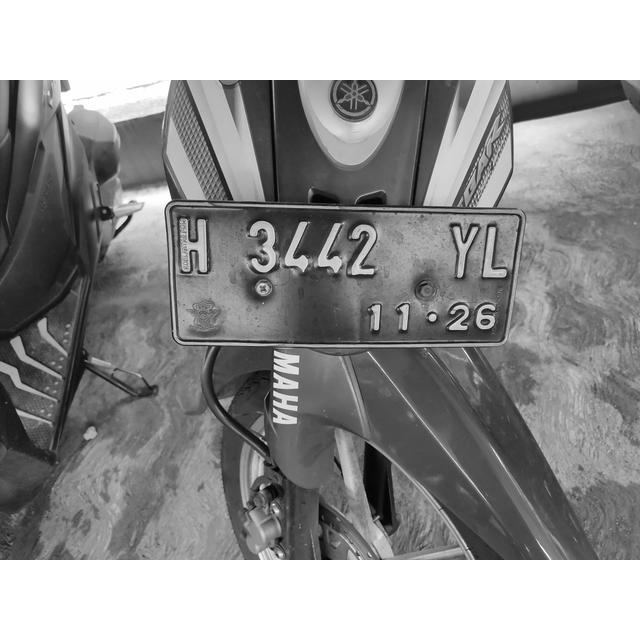license: (174, 213, 509, 338)
